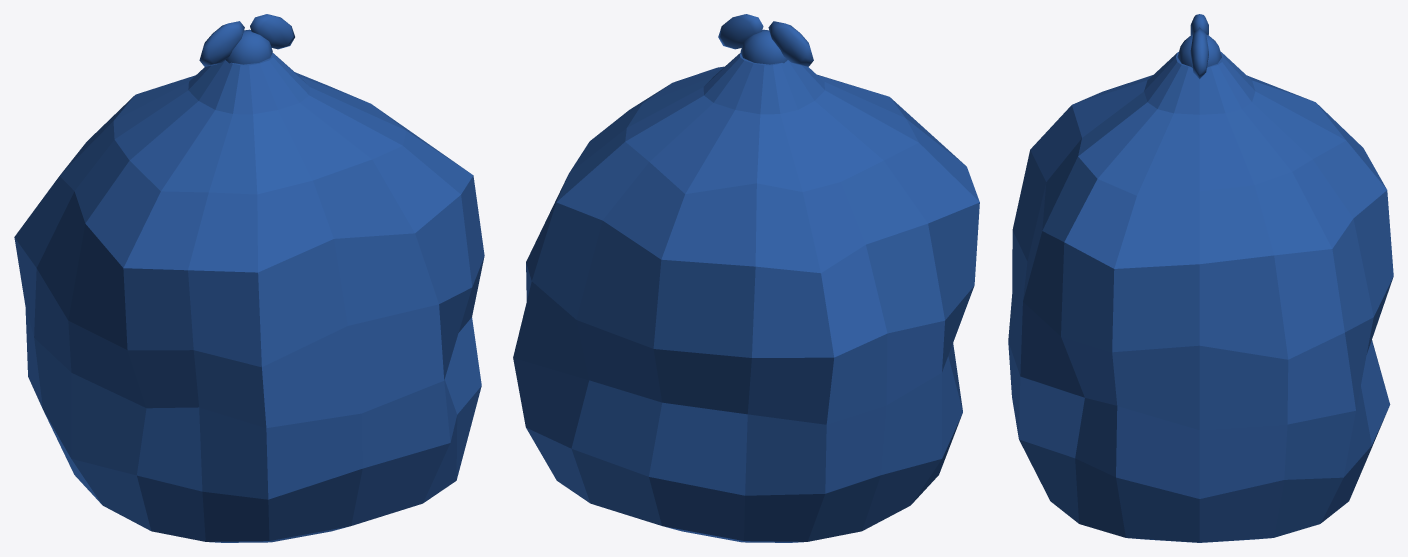
Rendered from binbag_blue.fbx.
The picture shows the model from 3 angles, left to right: view 1: azimuth 30°, elevation 25°; view 2: azimuth 150°, elevation 25°; view 3: azimuth 270°, elevation 25°; orthographic projection. The views are drawn at different scales.
Parts seen in each view (by area): view 1: binbag_blue; view 2: binbag_blue; view 3: binbag_blue.
Boxes of the visible parts, box(x1,y1,x2,y2) form: binbag_blue: box(14, 14, 484, 542); binbag_blue: box(513, 14, 979, 542); binbag_blue: box(1008, 14, 1393, 542).
Bounding box in the file's own units: 0.5334 × 0.6274 × 0.4845.
